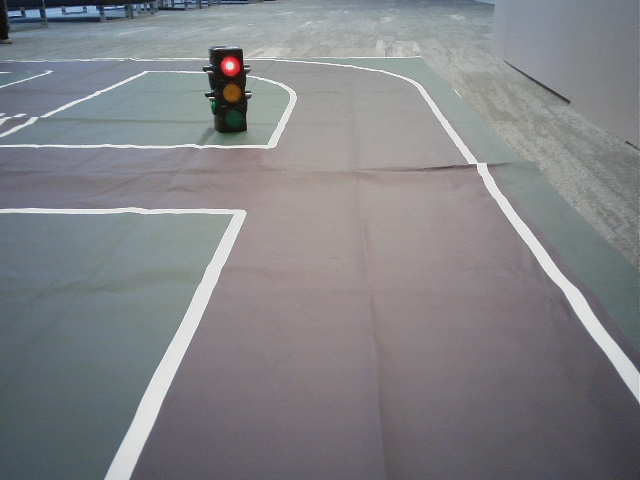red: (216, 52, 245, 130)
